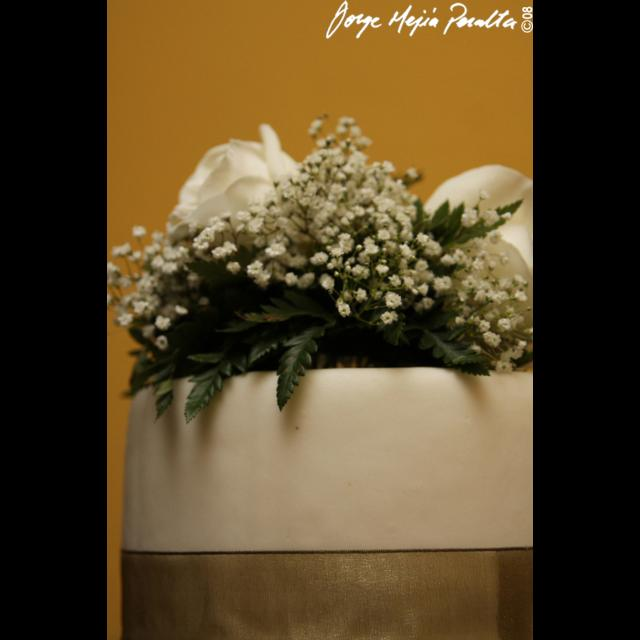Flower: (107, 113, 533, 374), (338, 303, 352, 315)
